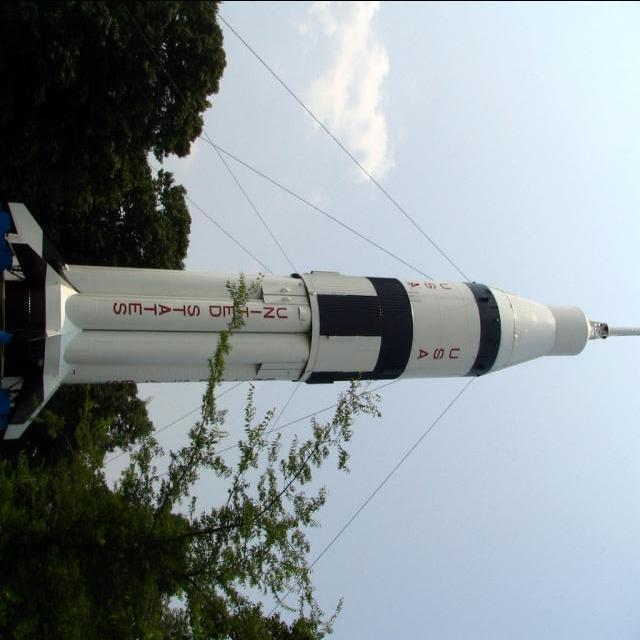missile: (2, 203, 636, 426)
